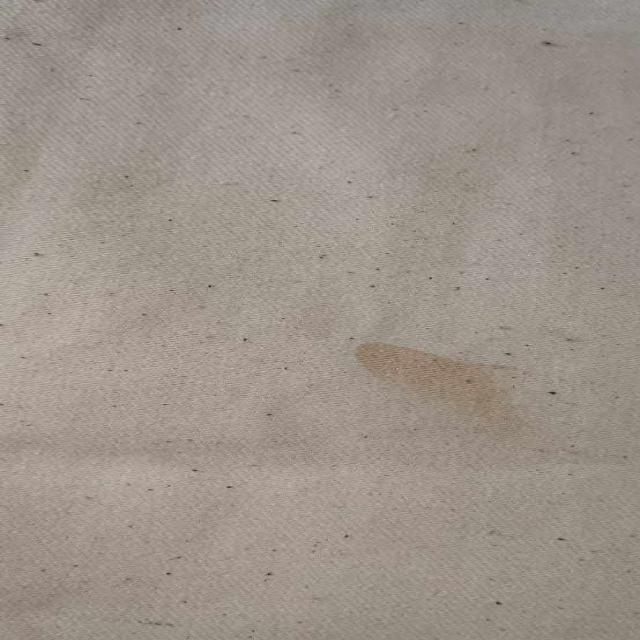taaaches: (297, 314, 575, 454)
